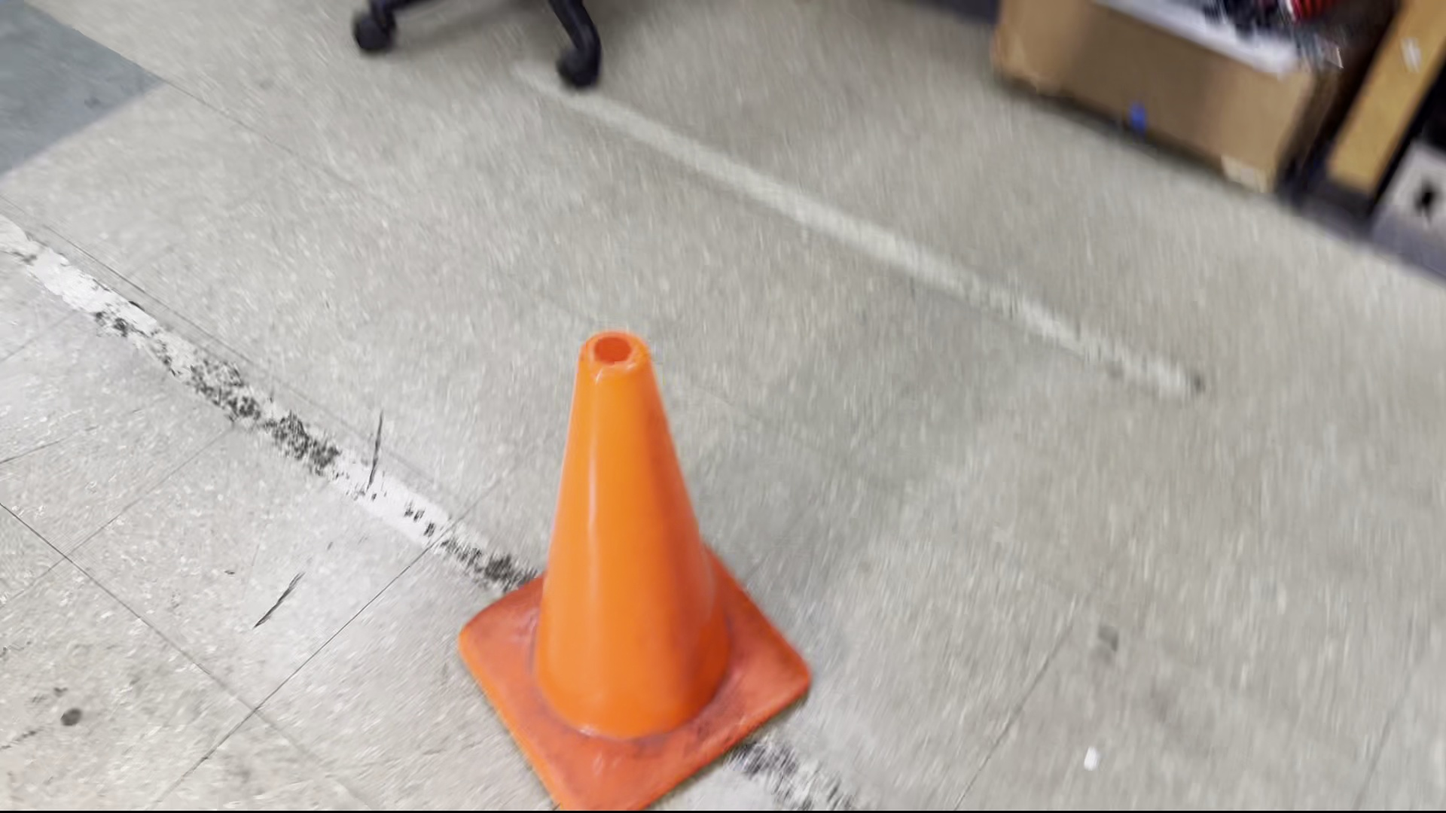traffic_cone: (456, 328, 812, 811)
